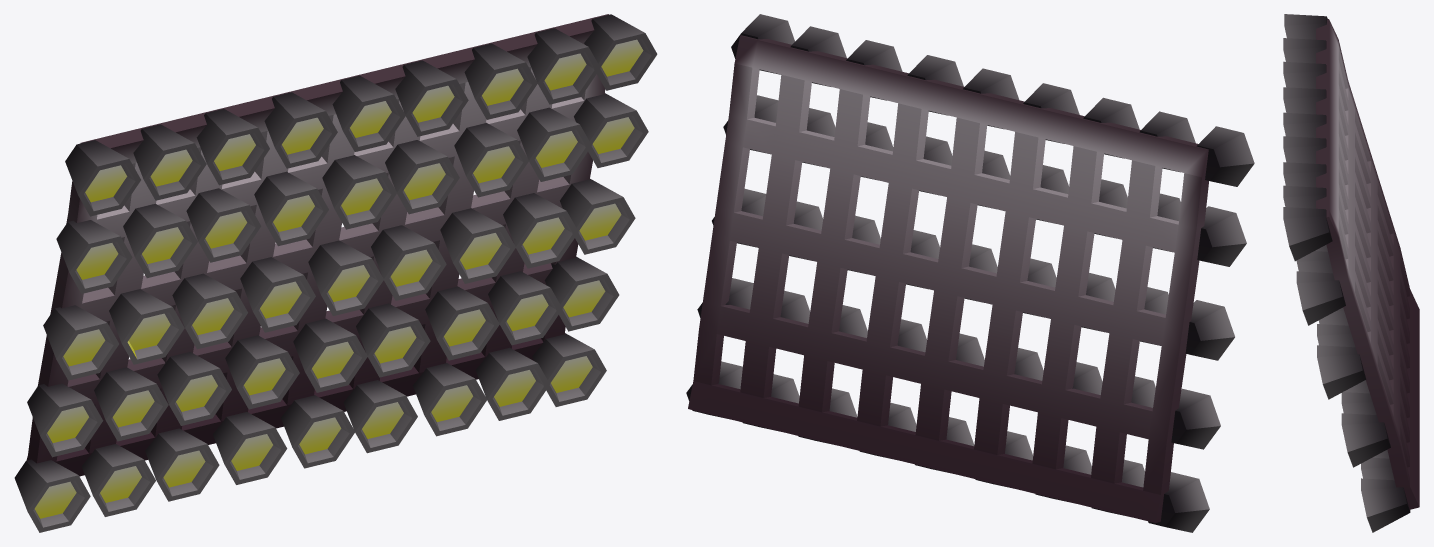
The picture shows the model from 3 angles, left to right: view 1: azimuth 30°, elevation 25°; view 2: azimuth 150°, elevation 25°; view 3: azimuth 270°, elevation 25°; orthographic projection. The views are drawn at different scales.
Visible parts, largest first — view 1: Lights; view 2: Lights; view 3: Lights.
Part boxes in pixels (x1,y1,x2,y2): Lights: (14,14,657,532); Lights: (686,14,1254,532); Lights: (1283,14,1419,532).
Size of the model in its own units: 0.2168 by 0.1466 by 0.0576.
Materials: 1 (1 with a texture image).
